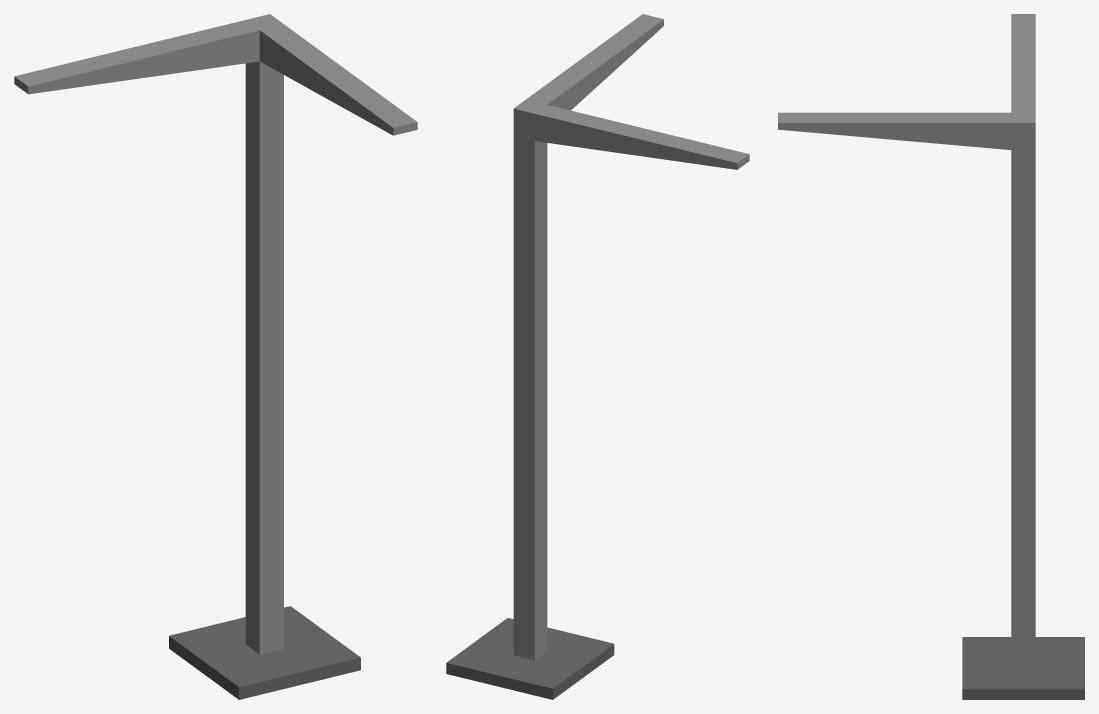
File: Lamp_Corner.obj
The picture shows the model from 3 angles, left to right: view 1: azimuth 30°, elevation 25°; view 2: azimuth 150°, elevation 25°; view 3: azimuth 270°, elevation 25°; orthographic projection. The views are drawn at different scales.
Visible parts, largest first — view 1: Lamp_Corner_Plane.002; view 2: Lamp_Corner_Plane.002; view 3: Lamp_Corner_Plane.002.
Boxes of the visible parts, x1,y1,x2,y2 form: Lamp_Corner_Plane.002: (14,14,417,699); Lamp_Corner_Plane.002: (446,14,749,699); Lamp_Corner_Plane.002: (778,14,1084,699).
Bounding box in the file's own units: 2.5 × 5 × 2.5.
1 material, 1 textured.
